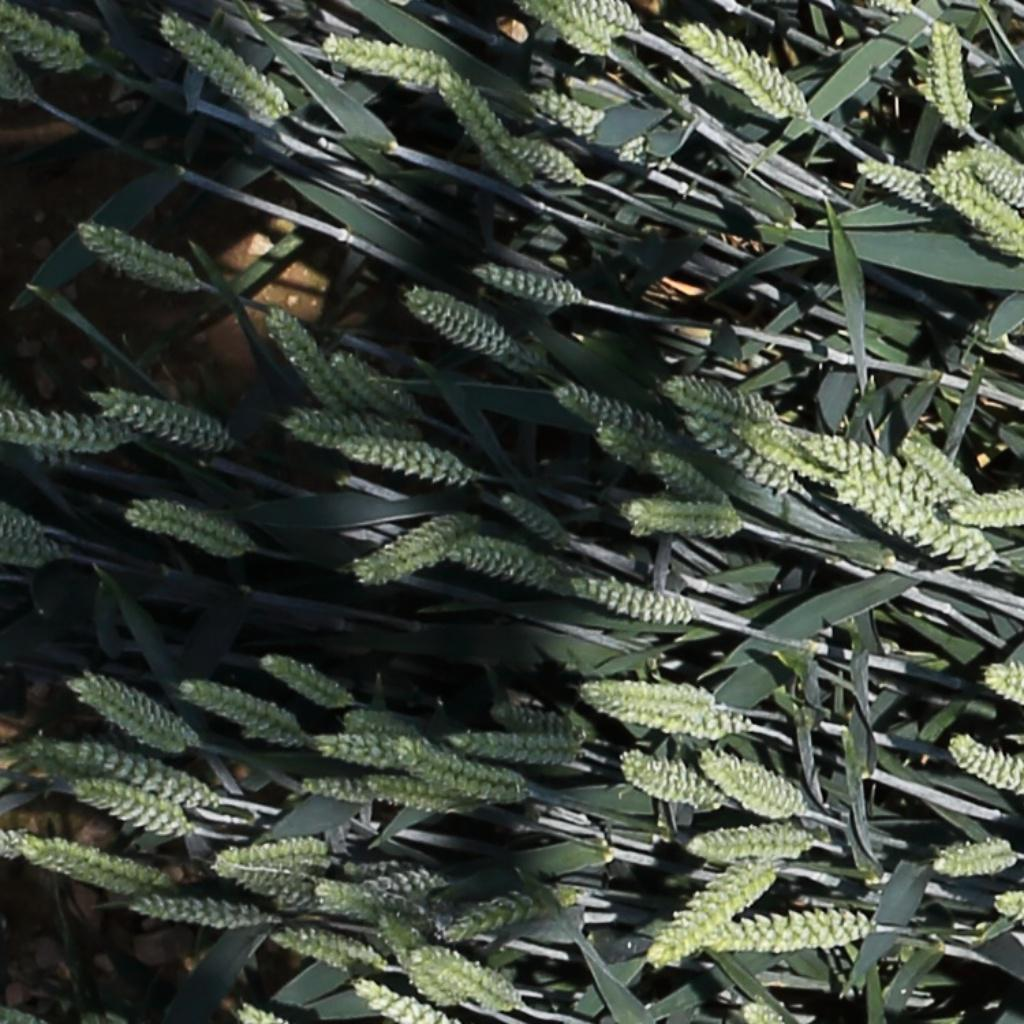0-0: (806, 425, 1006, 566), (644, 861, 776, 970), (159, 16, 293, 120), (529, 88, 678, 173), (730, 402, 868, 491), (681, 24, 806, 120), (62, 727, 213, 805), (682, 413, 804, 508), (435, 72, 532, 191), (118, 493, 265, 569), (681, 907, 875, 960), (345, 514, 471, 595), (405, 286, 529, 365), (412, 944, 550, 1013), (19, 830, 162, 894), (263, 303, 348, 410), (926, 173, 1024, 262), (177, 681, 307, 746), (42, 750, 167, 817), (447, 535, 575, 597), (567, 572, 699, 631), (98, 389, 223, 449), (76, 677, 191, 742), (700, 746, 804, 817), (322, 36, 452, 90), (73, 782, 192, 839), (441, 887, 571, 939), (212, 861, 332, 917), (552, 383, 664, 442), (404, 746, 521, 801), (616, 495, 759, 540), (327, 349, 412, 421), (619, 747, 719, 808), (79, 225, 189, 279), (207, 832, 336, 878), (366, 767, 488, 815), (0, 407, 121, 454), (338, 441, 468, 483), (582, 679, 738, 714), (267, 922, 383, 969), (613, 702, 747, 742), (664, 376, 772, 425), (352, 980, 466, 1024), (373, 902, 438, 979), (459, 730, 586, 769), (948, 737, 1024, 801), (130, 893, 268, 927), (258, 656, 349, 707), (648, 451, 730, 506), (522, 1, 607, 54), (689, 820, 811, 856), (498, 131, 584, 182), (898, 438, 973, 496), (931, 19, 969, 131), (472, 263, 578, 303), (496, 491, 570, 548), (1, 5, 77, 60), (931, 831, 1024, 875), (301, 766, 384, 813), (924, 142, 1009, 187), (856, 155, 935, 203), (491, 701, 588, 740), (593, 425, 660, 480), (288, 415, 419, 443), (357, 869, 460, 903), (312, 737, 405, 771), (972, 151, 1024, 211), (337, 706, 419, 741), (311, 884, 382, 921), (0, 35, 38, 102), (950, 491, 1024, 525), (573, 1, 641, 34), (0, 502, 47, 548), (0, 539, 66, 569), (987, 659, 1017, 714), (1000, 891, 1024, 940), (233, 1002, 279, 1024), (741, 1003, 776, 1024)
